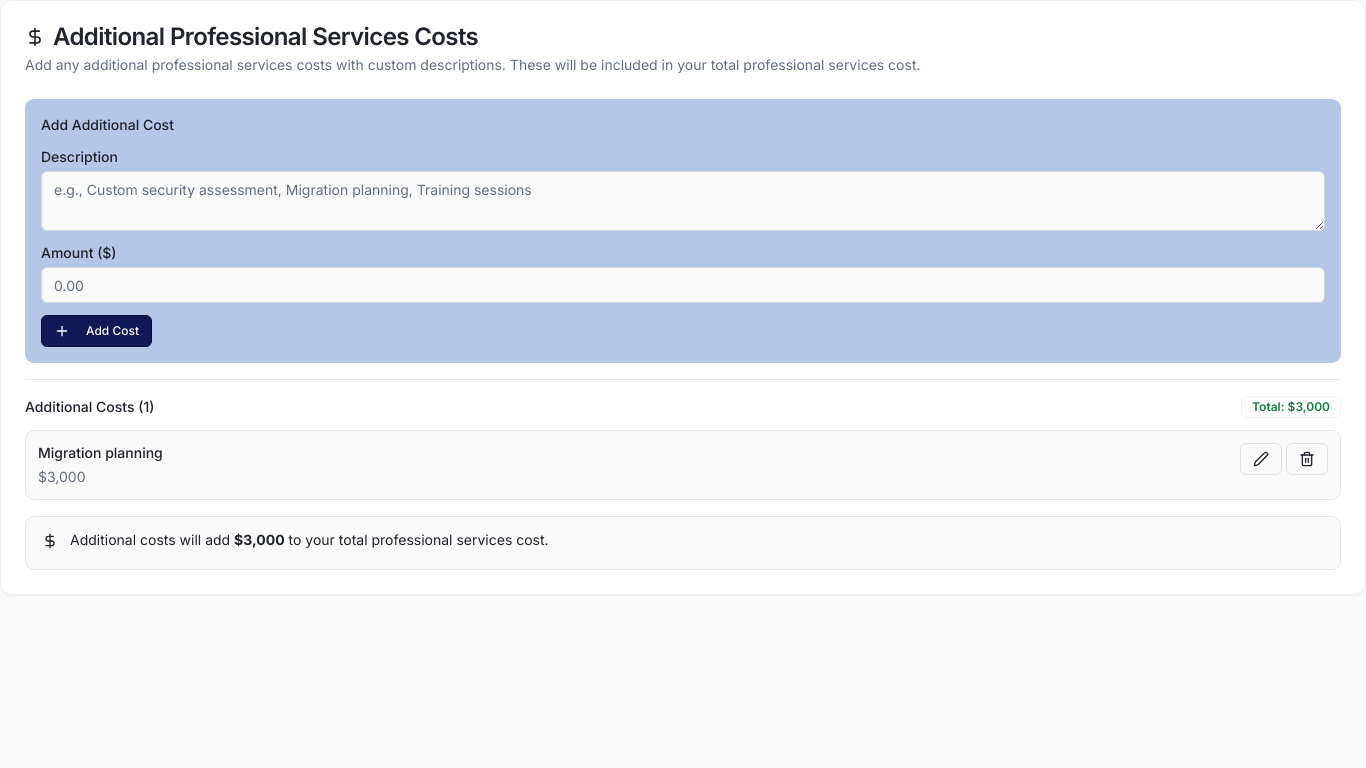
Test: AdditionalCostsSelector › enters edit mode when edit button is clicked
Click the button with test id "button-edit-cost-1".
click(1261, 459)  # box [1240,443,1282,475]
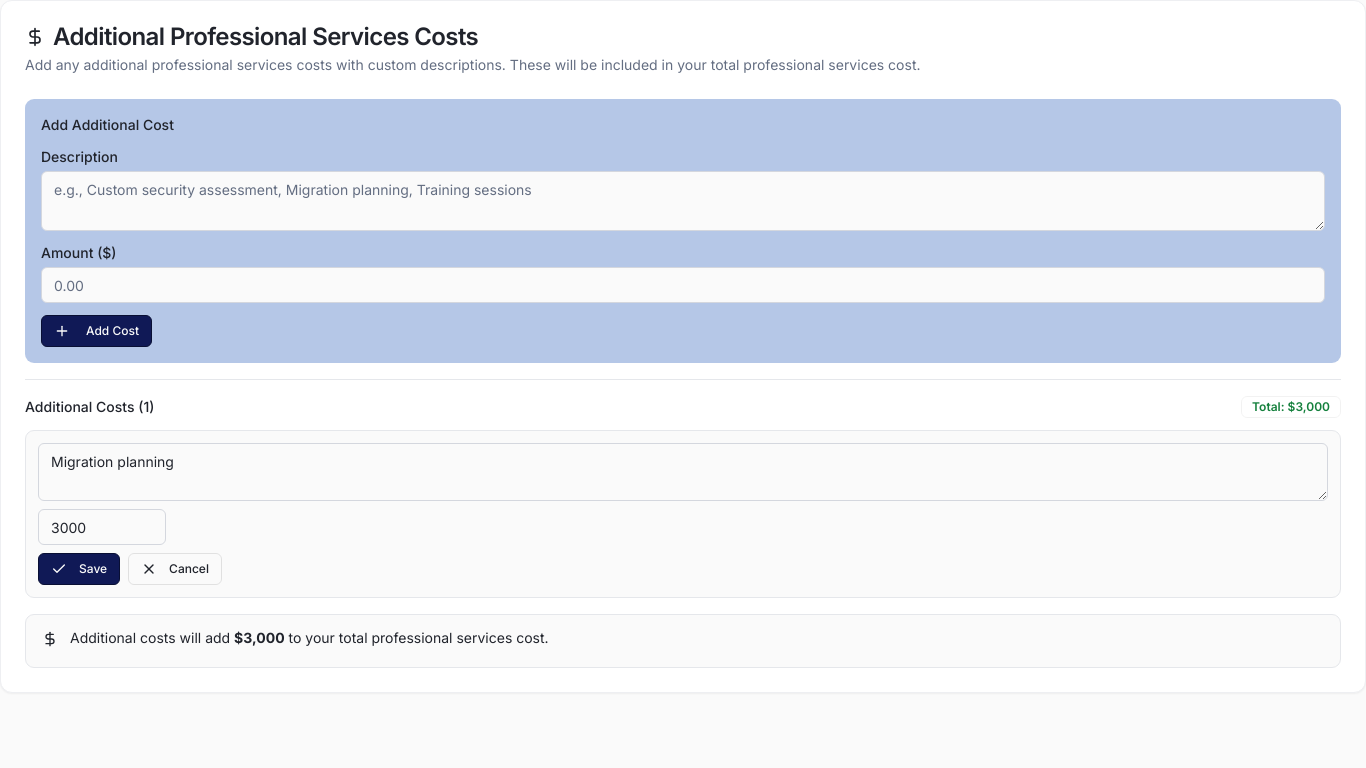
Check: the text box with test id "input-edit-description-cost-1" is shown, box [38,443,1328,501]
Check: the number field with test id "input-edit-amount-cost-1" is shown, box [38,509,166,545]
Check: the button with test id "button-save-edit-cost-1" is shown, box [38,553,120,585]
